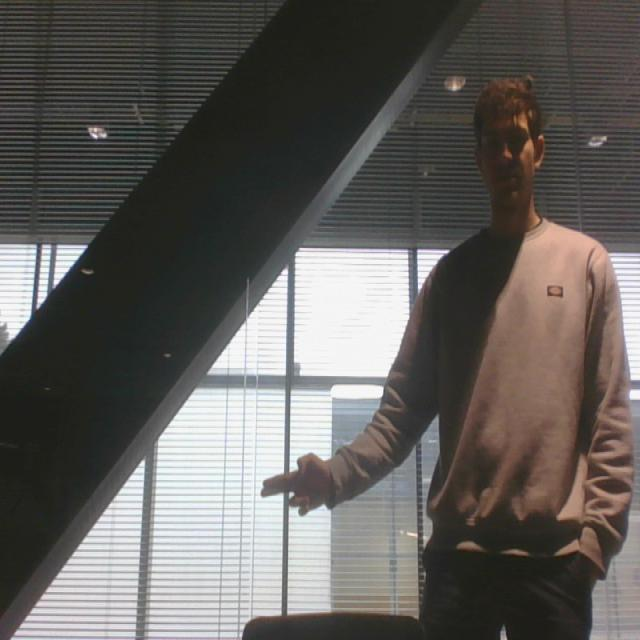left: (255, 449, 342, 522)
